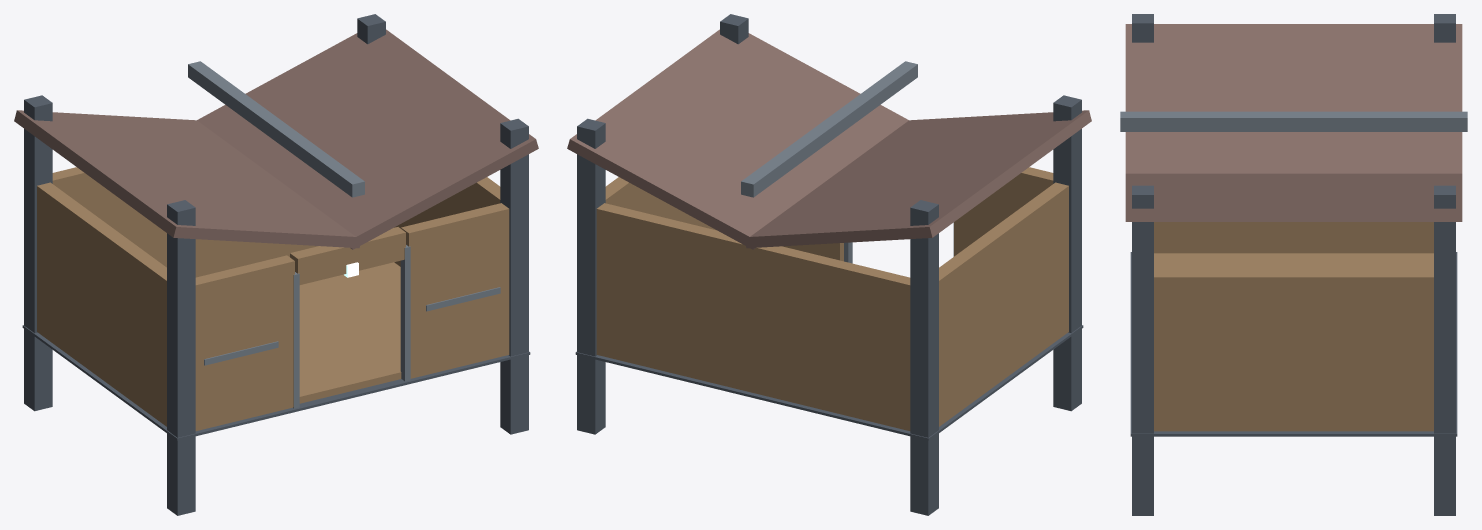
Rendered from cabin.glb.
3 views of the same model, side by side, from view 1: azimuth 30°, elevation 25°; view 2: azimuth 150°, elevation 25°; view 3: azimuth 270°, elevation 25° (orthographic). The views are drawn at different scales.
Visible parts, largest first — view 1: CabinRoofRight, CabinRoofLeft, CabinWallLeft, CabinFrontRight, CabinFrontLeft, CabinFloor, CabinPost_-5.85_-4.35, CabinPost_5.85_-4.35, CabinWallBack, CabinPost_-5.85_4.35, CabinRidge, CabinLintel (+5 smaller); view 2: CabinWallBack, CabinRoofRight, CabinRoofLeft, CabinWallLeft, CabinPost_-5.85_4.35, CabinPost_5.85_4.35, CabinPost_-5.85_-4.35, CabinRidge, CabinFrontLeft, CabinFoundation, CabinWallRight, CabinPost_5.85_-4.35 (+1 smaller); view 3: CabinWallRight, CabinRoofLeft, CabinRoofRight, CabinWallLeft, CabinRidge, CabinPost_5.85_-4.35, CabinPost_5.85_4.35, CabinFloor, CabinFoundation, CabinPost_-5.85_-4.35, CabinPost_-5.85_4.35.
Part boxes in pixels (x1=…): CabinRoofRight: x1=197, y1=29, x2=538, y2=249; CabinRoofLeft: x1=14, y1=110, x2=361, y2=248; CabinWallLeft: x1=37, y1=182, x2=166, y2=426; CabinFrontRight: x1=401, y1=203, x2=509, y2=378; CabinFrontLeft: x1=195, y1=255, x2=294, y2=430; CabinFloor: x1=299, y1=262, x2=401, y2=403; CabinPost_-5.85_-4.35: x1=167, y1=200, x2=195, y2=515; CabinPost_5.85_-4.35: x1=500, y1=118, x2=528, y2=434; CabinWallBack: x1=52, y1=167, x2=318, y2=277; CabinPost_-5.85_4.35: x1=24, y1=95, x2=52, y2=411; CabinRidge: x1=188, y1=61, x2=364, y2=197; CabinLintel: x1=290, y1=227, x2=405, y2=284; CabinWallBack: x1=596, y1=203, x2=910, y2=430; CabinRoofRight: x1=567, y1=29, x2=908, y2=249; CabinRoofLeft: x1=743, y1=110, x2=1091, y2=248; CabinWallLeft: x1=939, y1=182, x2=1068, y2=426; CabinPost_-5.85_4.35: x1=910, y1=200, x2=938, y2=515; CabinPost_5.85_4.35: x1=577, y1=118, x2=605, y2=434; CabinPost_-5.85_-4.35: x1=1053, y1=95, x2=1081, y2=411; CabinRidge: x1=741, y1=61, x2=917, y2=197; CabinFrontLeft: x1=954, y1=167, x2=1053, y2=256; CabinFoundation: x1=575, y1=325, x2=1083, y2=440; CabinWallRight: x1=605, y1=177, x2=716, y2=230; CabinPost_5.85_-4.35: x1=720, y1=14, x2=748, y2=44; CabinWallRight: x1=1154, y1=270, x2=1433, y2=431; CabinRoofLeft: x1=1125, y1=24, x2=1462, y2=173; CabinRoofRight: x1=1125, y1=173, x2=1462, y2=221; CabinWallLeft: x1=1154, y1=222, x2=1433, y2=253; CabinRidge: x1=1120, y1=111, x2=1467, y2=131; CabinPost_5.85_-4.35: x1=1132, y1=185, x2=1153, y2=515; CabinPost_5.85_4.35: x1=1434, y1=185, x2=1455, y2=515; CabinFloor: x1=1154, y1=253, x2=1433, y2=270; CabinFoundation: x1=1130, y1=252, x2=1457, y2=436; CabinPost_-5.85_-4.35: x1=1132, y1=14, x2=1153, y2=42; CabinPost_-5.85_4.35: x1=1434, y1=14, x2=1455, y2=42.
Bounding box in the file's own units: 12.84 × 10.2 × 10.
